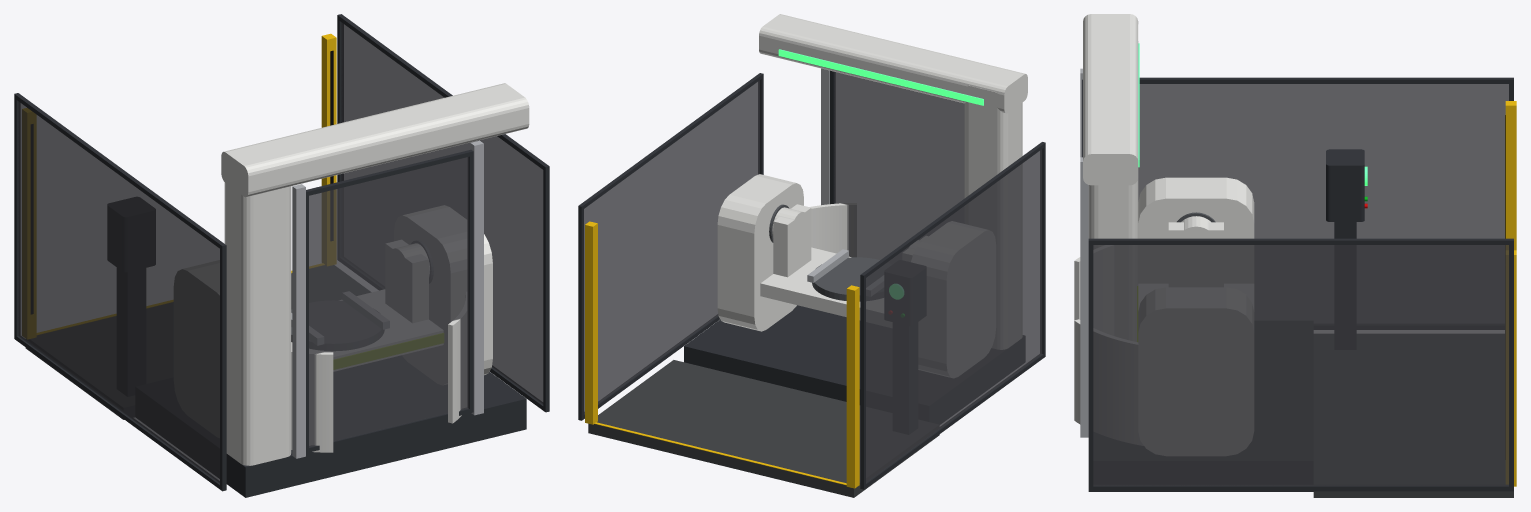
File: lu_station_rototilt.glb
3 views of the same model, side by side, from view 1: azimuth 30°, elevation 25°; view 2: azimuth 150°, elevation 25°; view 3: azimuth 270°, elevation 25° (orthographic). The views are drawn at different scales.
Parts seen in each view (by area): view 1: rt_operator_area__mesh, rt_base__evo_white, rt_rail_door__mesh, rt_base__anthracite, rt_operator_area__anthracite, rt_operator_area__grating, rt_base__steel, tilt_cradle__evo_white, rt_operator_area__yellow, rt_rail_door__anthracite, rt_turntable__steel_dark, tilt_cradle__lime (+2 smaller); view 2: rt_operator_area__mesh, rt_base__evo_white, rt_operator_area__grating, rt_rail_door__mesh, rt_base__anthracite, rt_operator_area__anthracite, rt_operator_area__yellow, tilt_cradle__evo_white, rt_turntable__steel_dark, rt_base__led_green, rt_base__steel, rt_turntable__steel (+1 smaller); view 3: rt_operator_area__mesh, rt_base__evo_white, rt_operator_area__grating, rt_operator_area__anthracite, rt_base__anthracite, tilt_cradle__evo_white, rt_operator_area__yellow, rt_base__steel.
Part boxes in pixels (x1,y1,x2,y2): rt_operator_area__mesh: [18, 22, 543, 483]; rt_base__evo_white: [174, 83, 529, 465]; rt_rail_door__mesh: [309, 157, 468, 447]; rt_base__anthracite: [136, 356, 526, 497]; rt_operator_area__anthracite: [14, 14, 549, 491]; rt_operator_area__grating: [25, 265, 369, 419]; rt_base__steel: [292, 140, 483, 458]; tilt_cradle__evo_white: [291, 240, 442, 370]; rt_operator_area__yellow: [22, 33, 336, 338]; rt_rail_door__anthracite: [306, 149, 473, 453]; rt_turntable__steel_dark: [291, 301, 383, 350]; tilt_cradle__lime: [334, 333, 443, 369]; rt_operator_area__mesh: [584, 80, 1042, 482]; rt_base__evo_white: [717, 14, 1027, 377]; rt_operator_area__grating: [588, 360, 939, 497]; rt_rail_door__mesh: [834, 72, 964, 263]; rt_base__anthracite: [684, 305, 1024, 424]; rt_operator_area__anthracite: [578, 73, 1045, 489]; rt_operator_area__yellow: [585, 221, 859, 488]; tilt_cradle__evo_white: [760, 204, 927, 327]; rt_turntable__steel_dark: [812, 257, 891, 301]; rt_base__led_green: [778, 49, 983, 105]; rt_base__steel: [821, 68, 829, 205]; rt_turntable__steel: [807, 249, 883, 296]; rt_operator_area__mesh: [1093, 84, 1508, 485]; rt_base__evo_white: [1074, 14, 1254, 455]; rt_operator_area__grating: [1313, 334, 1513, 497]; rt_operator_area__anthracite: [1088, 77, 1513, 491]; rt_base__anthracite: [1088, 321, 1313, 491]; tilt_cradle__evo_white: [1139, 216, 1253, 307]; rt_operator_area__yellow: [1505, 101, 1516, 486]; rt_base__steel: [1080, 68, 1088, 437].
Size of the model in its own units: 2.8 by 2.7 by 3.2.
